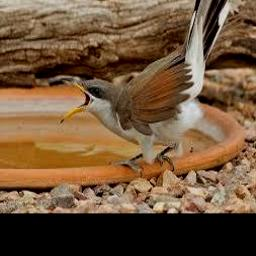Cuckoo: (60, 0, 238, 172)
